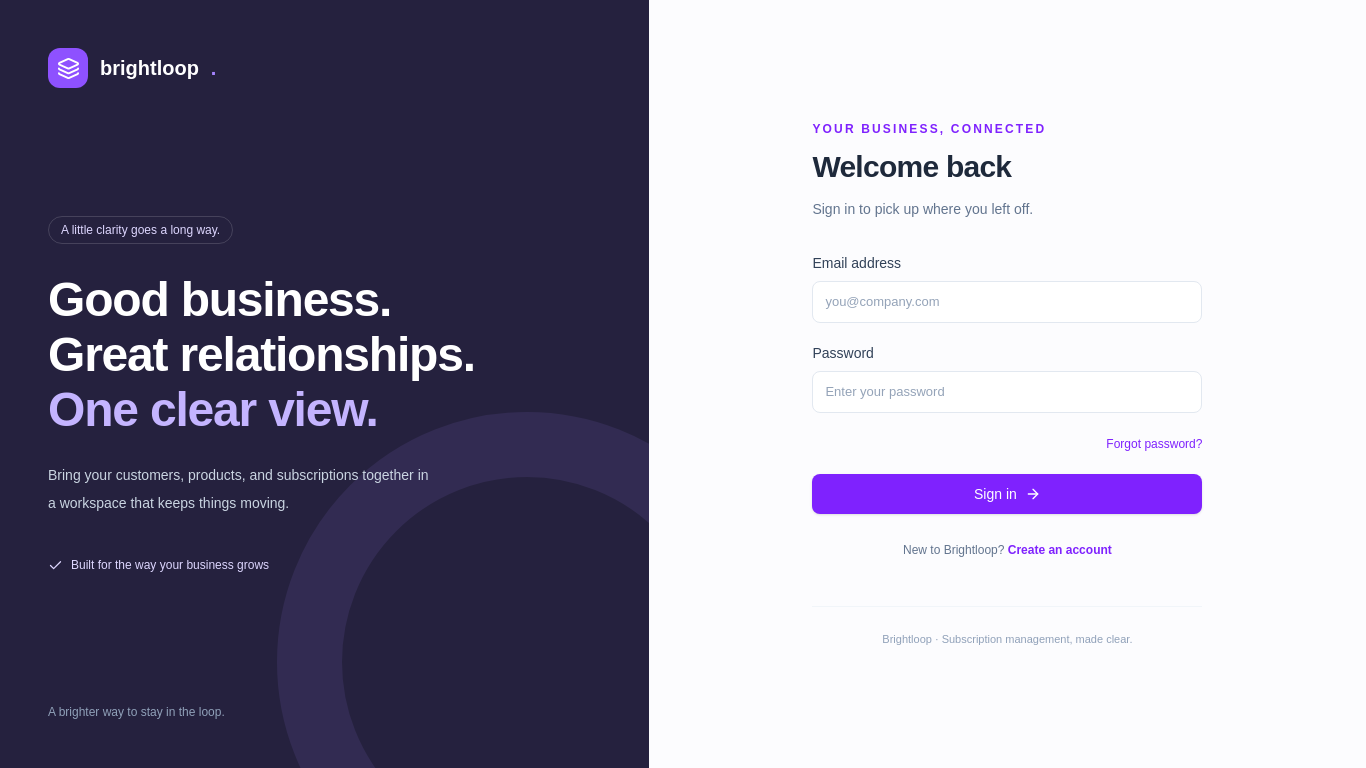
Test: authentication UI › shows field validation before making a login request
Click the button "Sign in" at (1007, 494), box [812,474,1202,514]
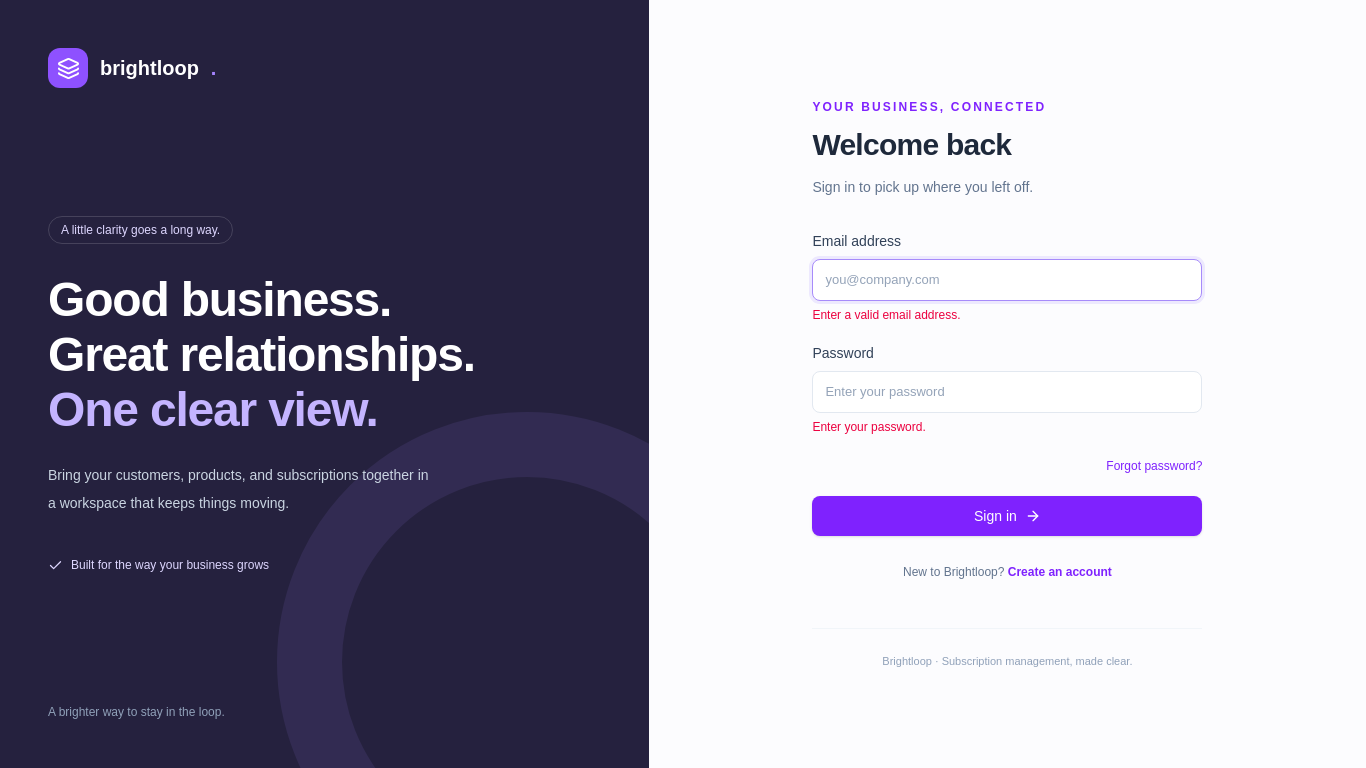
Check: the text "Enter a valid email address." is shown, box [812,308,960,322]
